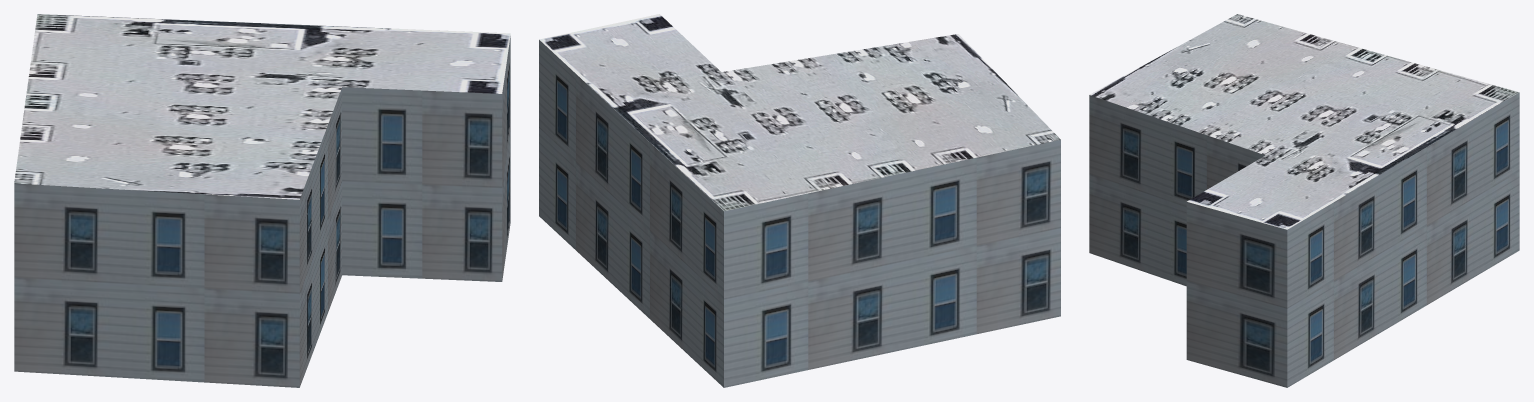
The model's file is ResTex__2452.fbx.
The picture shows the model from 3 angles, left to right: view 1: azimuth 30°, elevation 25°; view 2: azimuth 150°, elevation 25°; view 3: azimuth 270°, elevation 25°; orthographic projection. The views are drawn at different scales.
Visible parts, largest first — view 1: CityEngineMaterial_18_m, CityEngineMaterial_2_m; view 2: CityEngineMaterial_18_m, CityEngineMaterial_2_m; view 3: CityEngineMaterial_18_m, CityEngineMaterial_2_m.
Boxes of the visible parts, x1,y1,x2,y2 form: CityEngineMaterial_18_m: (14,36,510,387); CityEngineMaterial_2_m: (14,14,510,199); CityEngineMaterial_18_m: (539,40,1060,387); CityEngineMaterial_2_m: (539,14,1060,211); CityEngineMaterial_18_m: (1089,92,1519,387); CityEngineMaterial_2_m: (1089,14,1518,229).
Bounding box in the file's own units: 17.56 × 6 × 14.8.
Materials: 2 (2 with a texture image).
